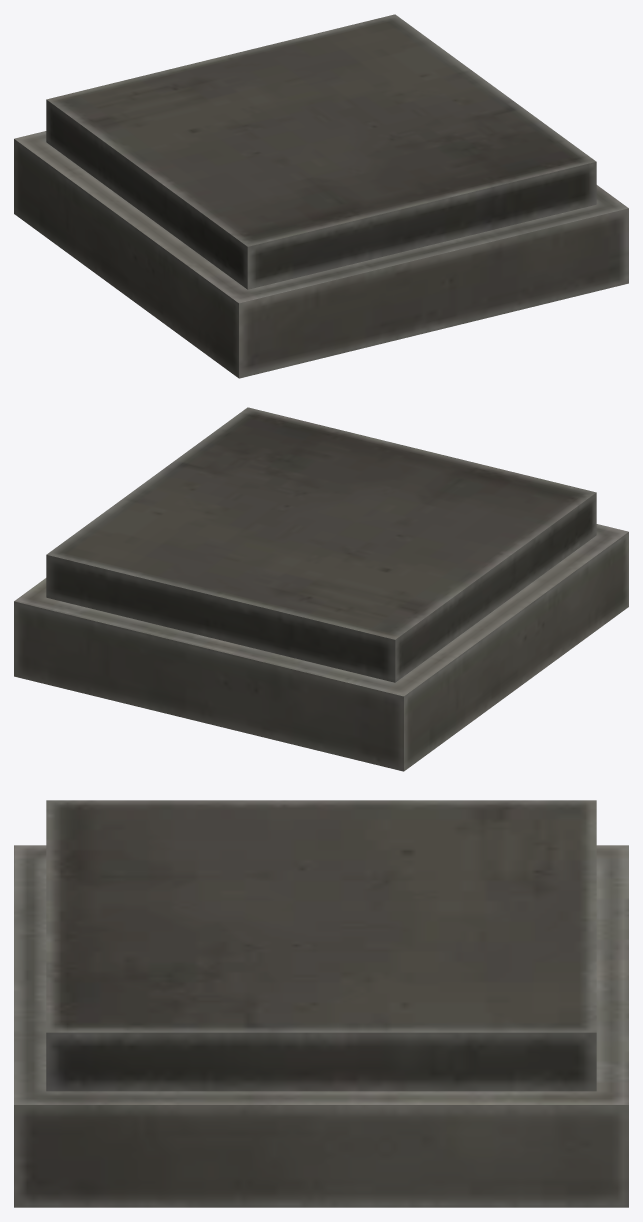
File: column_cap.glb
3 renders of one model, top to bottom at view 1: azimuth 30°, elevation 25°; view 2: azimuth 150°, elevation 25°; view 3: azimuth 270°, elevation 25°, orthographic. The views are drawn at different scales.
Parts seen in each view (by area): view 1: te_retaining_column_cap; view 2: te_retaining_column_cap; view 3: te_retaining_column_cap.
Part boxes in pixels (x1,y1,x2,y2): te_retaining_column_cap: (14, 14, 628, 378); te_retaining_column_cap: (14, 407, 628, 771); te_retaining_column_cap: (14, 800, 628, 1207).
Bounding box in the file's own units: 0.19 × 0.055 × 0.19.
1 material, 1 textured.
